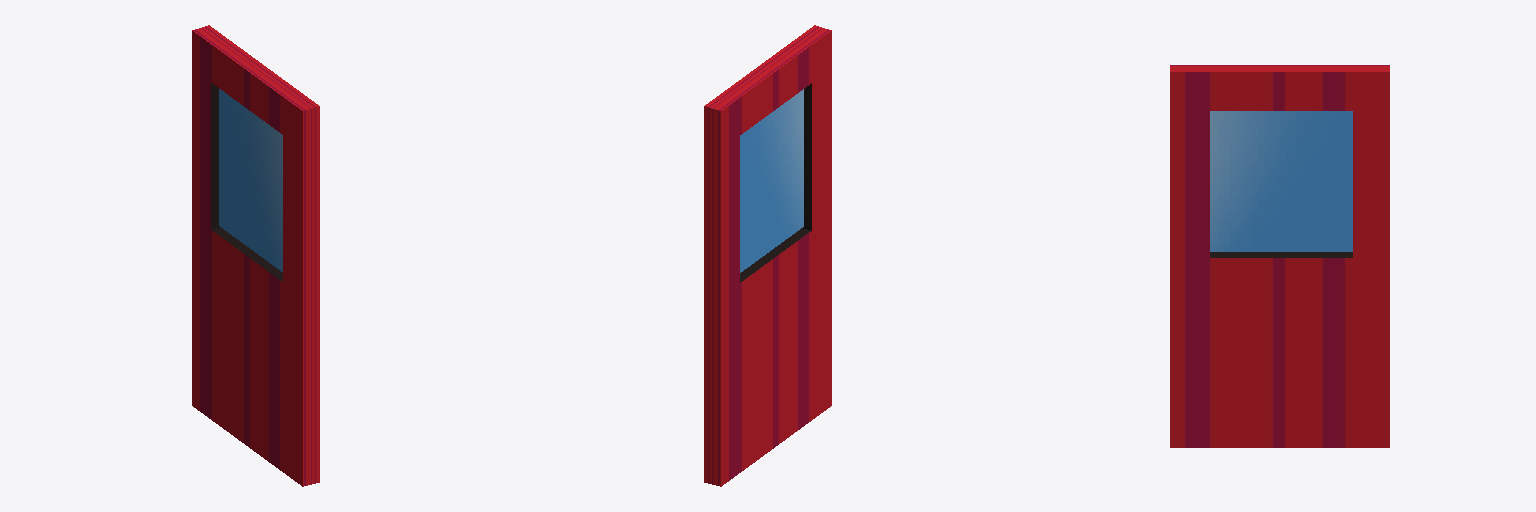
3 renders of one model, left to right at view 1: azimuth 30°, elevation 25°; view 2: azimuth 150°, elevation 25°; view 3: azimuth 270°, elevation 25°, orthographic.
Parts seen in each view (by area): view 1: pCube12, pCube13; view 2: pCube12, pCube13; view 3: pCube12, pCube13.
Part boxes in pixels (bbox=[...]): pCube12: bbox=[192, 25, 319, 486]; pCube13: bbox=[219, 89, 282, 271]; pCube12: bbox=[704, 25, 831, 486]; pCube13: bbox=[740, 89, 803, 272]; pCube12: bbox=[1170, 65, 1389, 447]; pCube13: bbox=[1210, 111, 1352, 251].
Bounding box in the file's own units: 3.74 × 78.97 × 41.98.
3 materials, 3 textured.